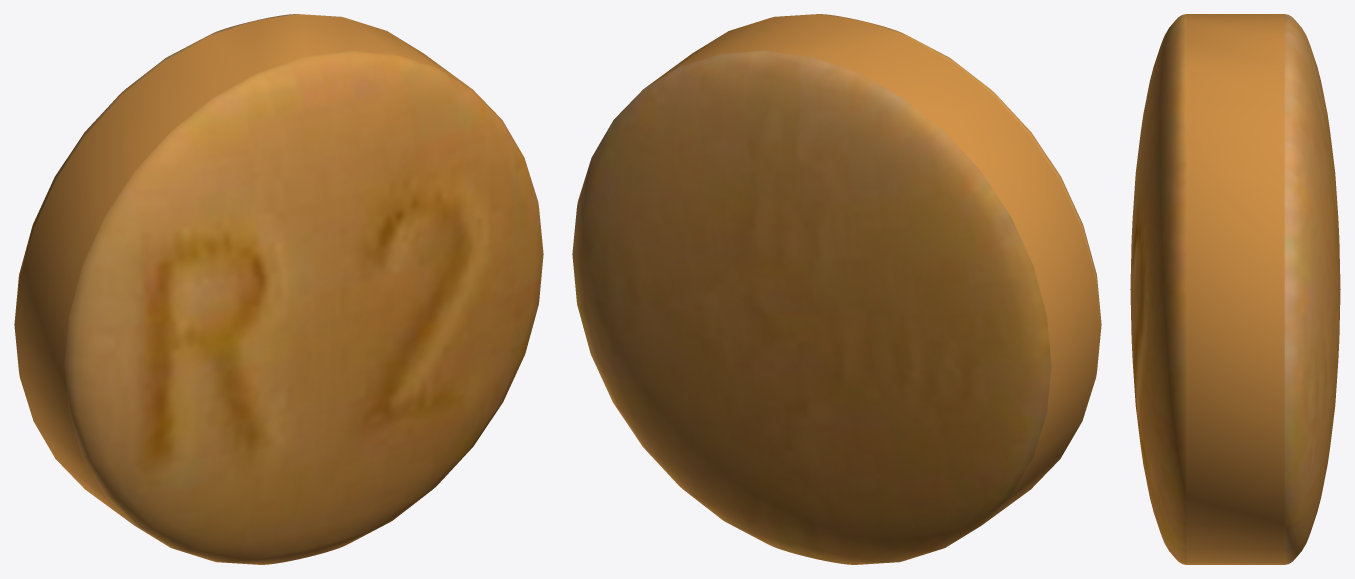
File: 20160725GOPHDRGPT03683.fbx
3 renders of one model, left to right at view 1: azimuth 30°, elevation 25°; view 2: azimuth 150°, elevation 25°; view 3: azimuth 270°, elevation 25°, orthographic.
Parts seen in each view (by area): view 1: 球體.030; view 2: 球體.030; view 3: 球體.030.
Part boxes in pixels (left/top/right/bottom): 球體.030: left=14, top=14, right=543, bottom=564; 球體.030: left=572, top=14, right=1101, bottom=564; 球體.030: left=1130, top=14, right=1340, bottom=564.
Size of the model in its own units: 0.6046 by 0.6046 by 0.2302.
Materials: 1 (1 with a texture image).
